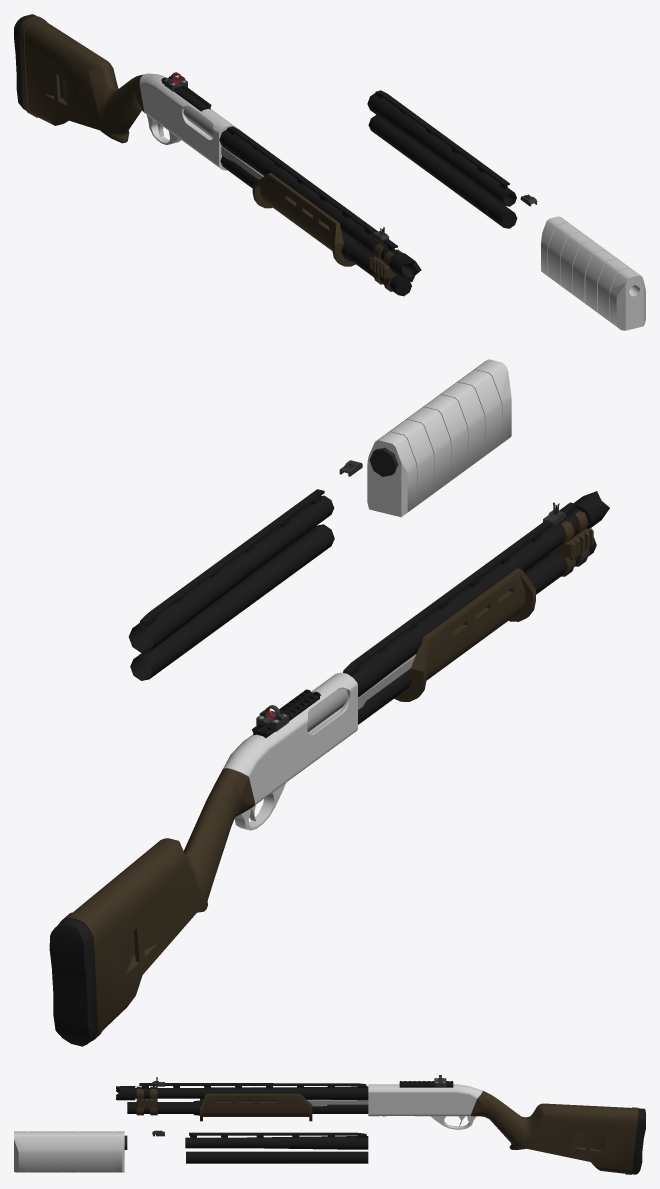
Rendered from DemoFacility_Shotgun.FBX.
3 renders of one model, top to bottom at view 1: azimuth 30°, elevation 25°; view 2: azimuth 150°, elevation 25°; view 3: azimuth 270°, elevation 25°, orthographic. The views are drawn at different scales.
Visible parts, largest first — view 1: DFSG_Shotgun, DFSG_ShotgunBarrel_Short, DFSG_Silencer, DFSG_ShotgunBarrel_Standard, DFSG_Pump, DFSG_Muzzle; view 2: DFSG_Shotgun, DFSG_ShotgunBarrel_Short, DFSG_Silencer, DFSG_ShotgunBarrel_Standard, DFSG_Pump; view 3: DFSG_Shotgun, DFSG_ShotgunBarrel_Short, DFSG_Silencer, DFSG_ShotgunBarrel_Standard, DFSG_Pump, DFSG_Muzzle.
Boxes of the visible parts, bbox=[...] form: DFSG_Shotgun: bbox=[14, 14, 237, 170]; DFSG_ShotgunBarrel_Short: bbox=[367, 90, 517, 228]; DFSG_Silencer: bbox=[541, 216, 645, 330]; DFSG_ShotgunBarrel_Standard: bbox=[219, 126, 411, 296]; DFSG_Pump: bbox=[183, 106, 360, 266]; DFSG_Muzzle: bbox=[389, 252, 421, 281]; DFSG_Shotgun: bbox=[49, 672, 357, 1046]; DFSG_ShotgunBarrel_Short: bbox=[128, 489, 334, 680]; DFSG_Silencer: bbox=[367, 359, 511, 517]; DFSG_ShotgunBarrel_Standard: bbox=[343, 502, 596, 724]; DFSG_Pump: bbox=[307, 568, 535, 732]; DFSG_Shotgun: bbox=[368, 1081, 645, 1174]; DFSG_ShotgunBarrel_Short: bbox=[185, 1132, 368, 1163]; DFSG_Silencer: bbox=[14, 1131, 127, 1172]; DFSG_ShotgunBarrel_Standard: bbox=[127, 1083, 368, 1115]; DFSG_Pump: bbox=[193, 1087, 368, 1121]; DFSG_Muzzle: bbox=[116, 1086, 135, 1100].
Size of the model in its own units: 30.27 by 23.05 by 135.
